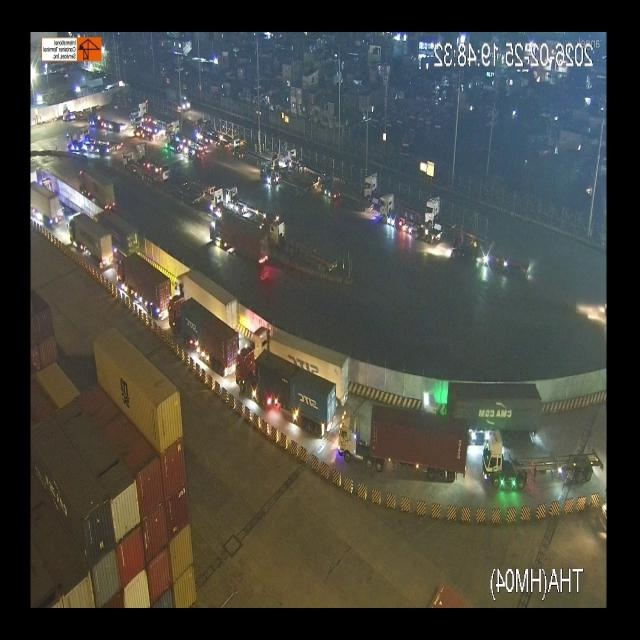truck: (336, 415, 462, 473), (420, 380, 540, 434), (234, 361, 334, 425), (251, 329, 362, 386), (482, 438, 598, 491), (112, 241, 172, 312), (166, 302, 229, 367), (175, 259, 237, 321), (59, 215, 111, 265), (271, 224, 331, 267), (426, 197, 476, 239), (74, 170, 118, 208), (377, 202, 423, 237), (222, 189, 268, 223), (29, 182, 60, 230), (105, 202, 135, 247), (364, 172, 396, 206)
